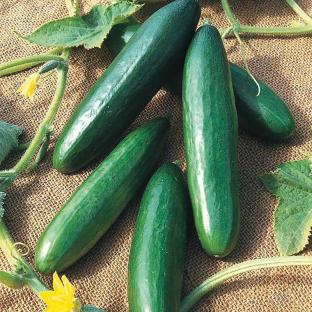Cucumber: (54, 0, 200, 173), (36, 118, 169, 274), (183, 25, 239, 257), (128, 164, 189, 311), (230, 63, 294, 140)
